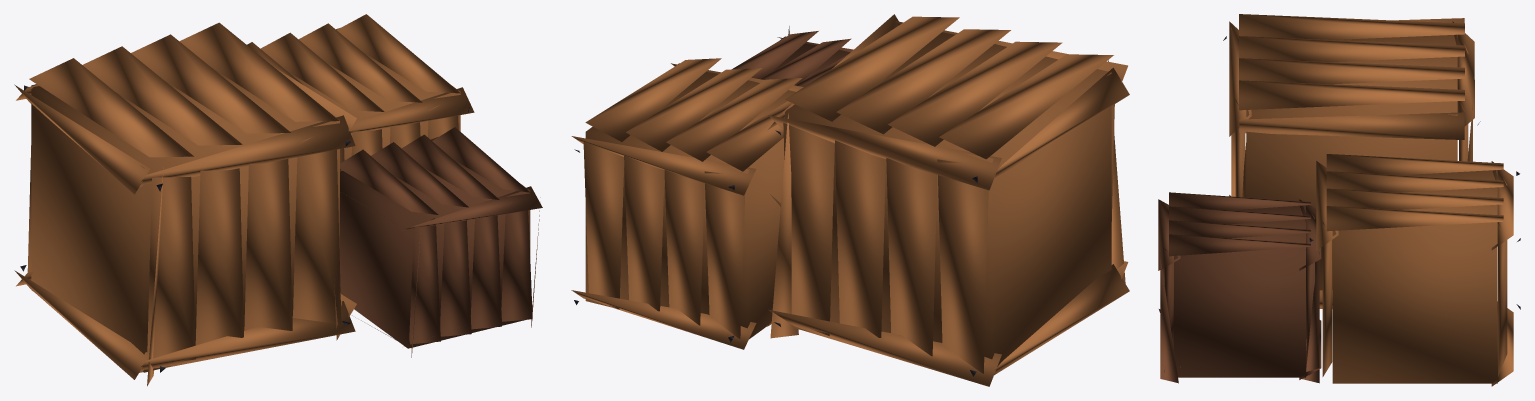
3 views of the same model, side by side, from view 1: azimuth 30°, elevation 25°; view 2: azimuth 150°, elevation 25°; view 3: azimuth 270°, elevation 25° (orthographic). The views are drawn at different scales.
Visible parts, largest first — view 1: root_pal_woodWarm, root_pal_leatherShadow; view 2: root_pal_woodWarm, root_pal_leatherShadow; view 3: root_pal_woodWarm, root_pal_leatherShadow.
Boxes of the visible parts, x1,y1,x2,y2 form: root_pal_woodWarm: [14, 14, 474, 386]; root_pal_leatherShadow: [340, 127, 542, 357]; root_pal_woodWarm: [571, 14, 1129, 386]; root_pal_leatherShadow: [731, 26, 853, 86]; root_pal_woodWarm: [1229, 14, 1513, 386]; root_pal_leatherShadow: [1158, 192, 1321, 383].
Size of the model in its own units: 1.17 by 0.6615 by 1.03.
